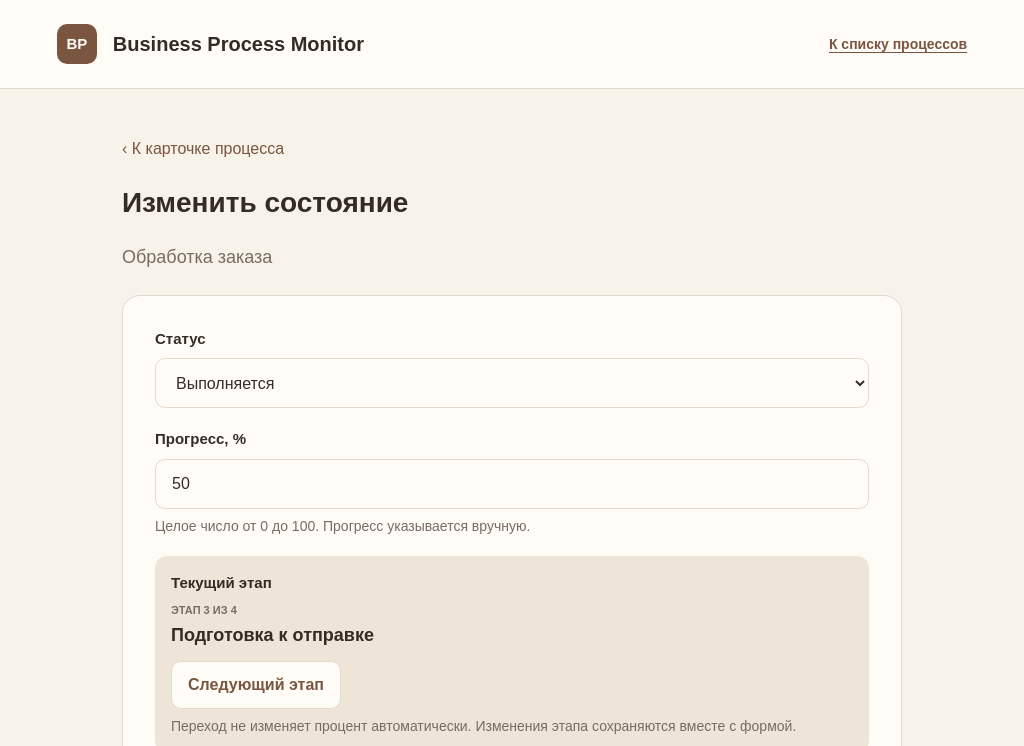
Scenario: R1 / FE-016: валидация перед сохранением › V08: «Не начат» с 0% отклоняется на третьем этапе
Select "Не начат" in the dropdown labelled "Статус" at coordinates (512, 383), box [155,358,869,408]
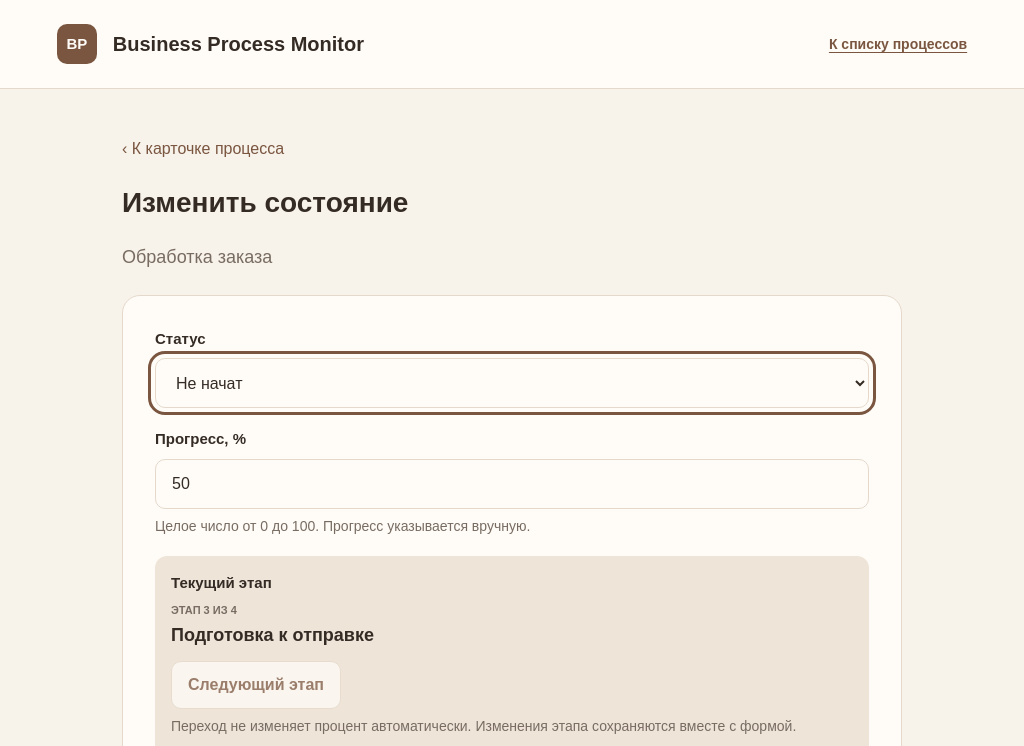
Replace the text in the field labelled "Прогресс, %" with "0" at coordinates (512, 484), box [155,459,869,509]
(page scrolled)
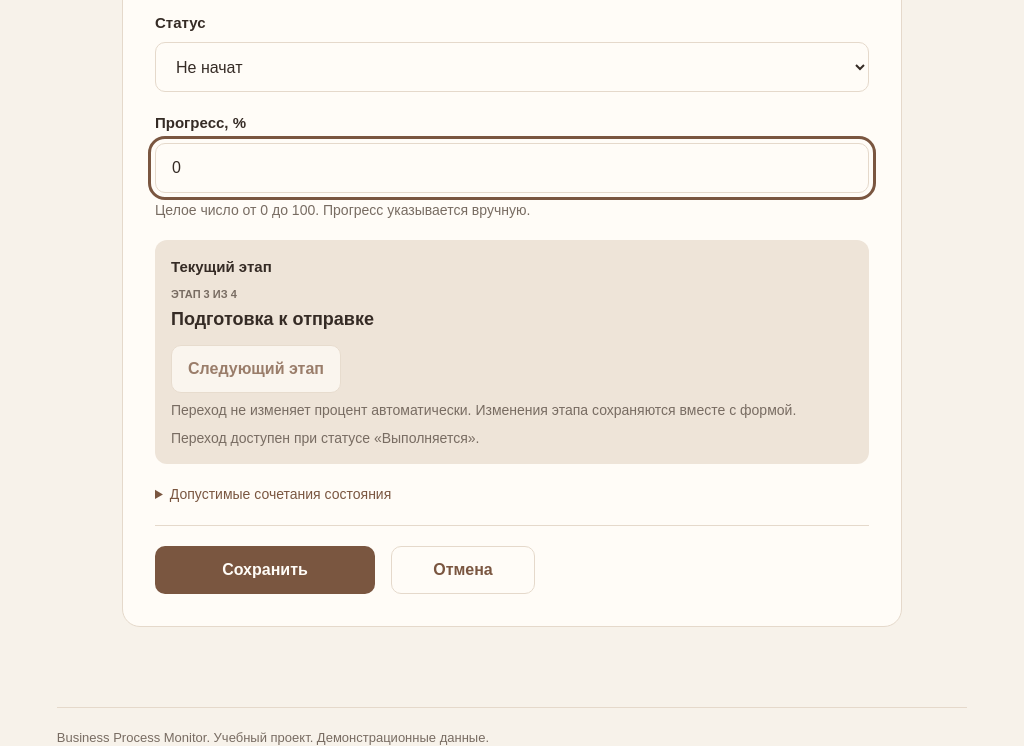
Click the button "Сохранить".
click(265, 570)  # box [155,546,375,594]
(page scrolled)
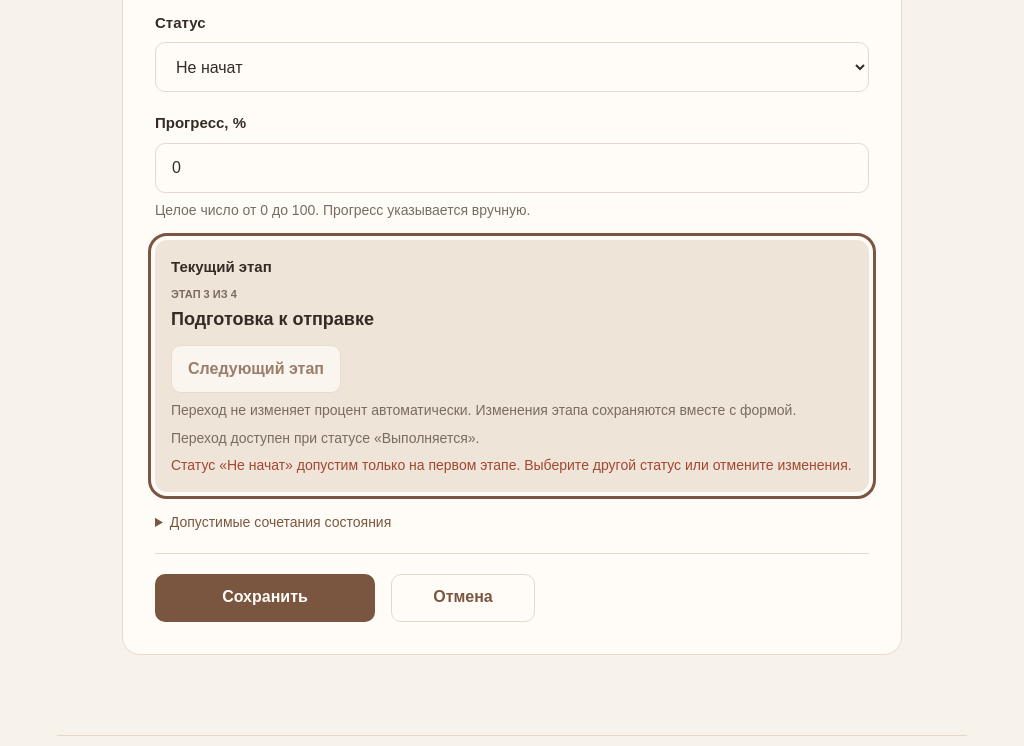
Check: the text "Статус «Не начат» допустим только на первом этапе. Выберите другой статус или отмените изменения." is shown, box [171,457,852,473]
